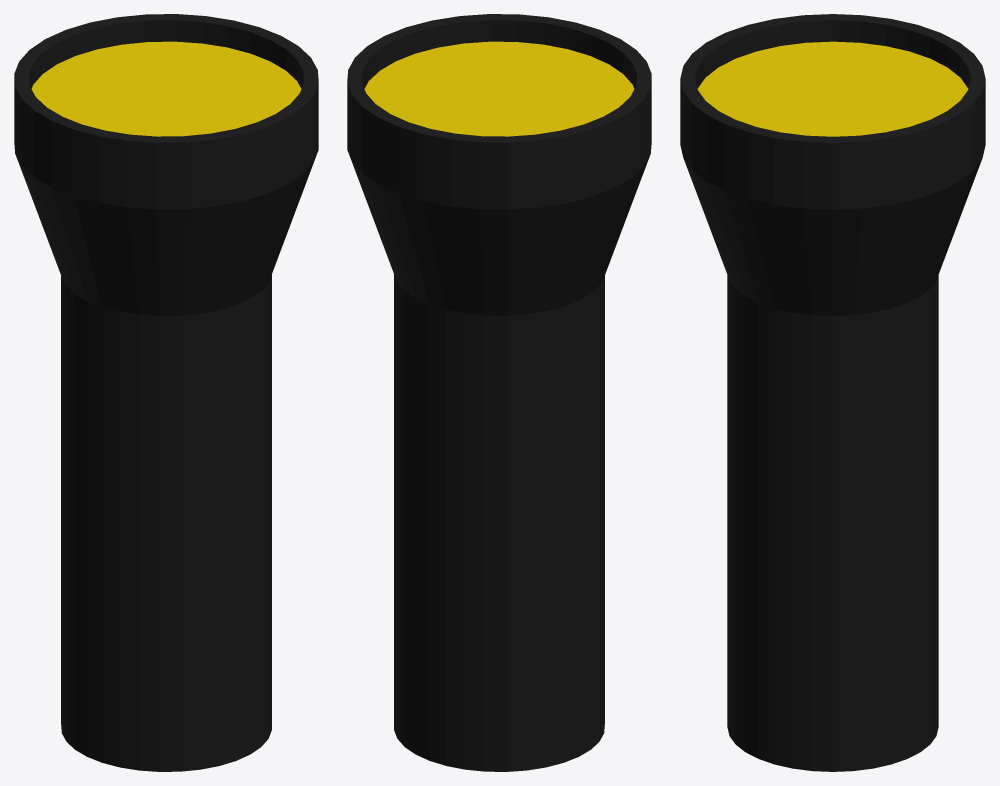
Rendered from flashlight.glb.
3 views of the same model, side by side, from view 1: azimuth 30°, elevation 25°; view 2: azimuth 150°, elevation 25°; view 3: azimuth 270°, elevation 25° (orthographic).
Visible parts, largest first — view 1: Cylinder; view 2: Cylinder; view 3: Cylinder.
Boxes of the visible parts, x1,y1,x2,y2 form: Cylinder: (14, 14, 318, 771); Cylinder: (347, 14, 651, 771); Cylinder: (680, 14, 985, 771).
Bounding box in the file's own units: 2.89 × 6.78 × 2.89.
